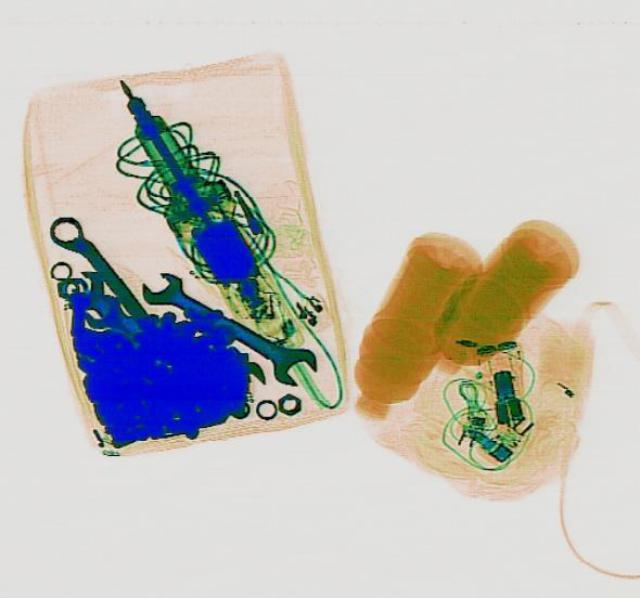Wrench: (130, 258, 326, 392), (38, 207, 154, 323), (55, 264, 145, 342), (82, 289, 148, 345)
